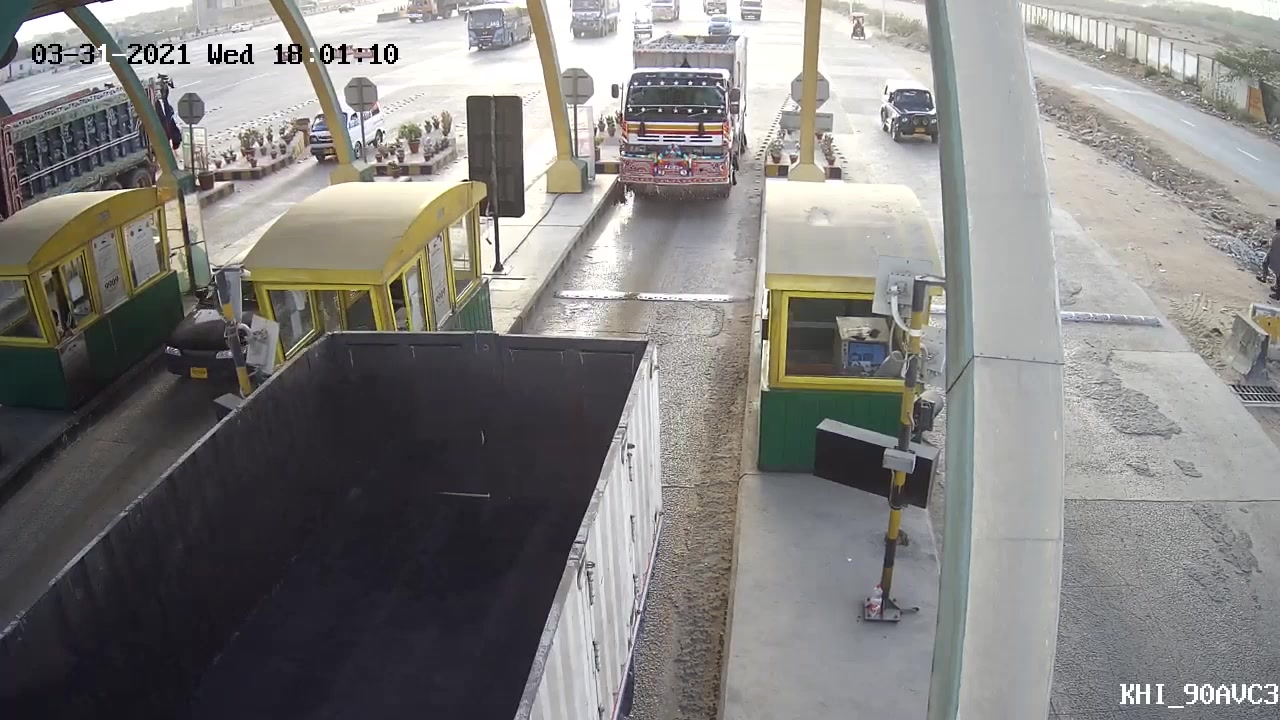F5: (596, 30, 762, 211)
